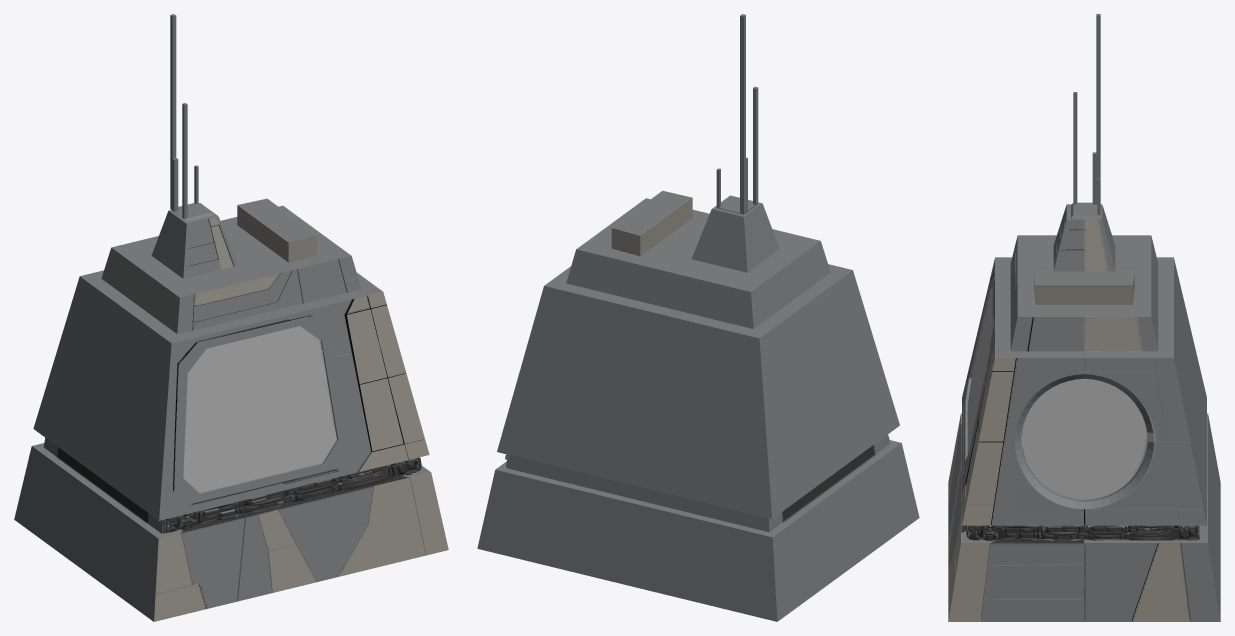
Rendered from Piramida.fbx.
3 views of the same model, side by side, from view 1: azimuth 30°, elevation 25°; view 2: azimuth 150°, elevation 25°; view 3: azimuth 270°, elevation 25° (orthographic). The views are drawn at different scales.
Visible parts, largest first — view 1: Center.001; view 2: Center.001; view 3: Center.001.
Boxes of the visible parts, <box> form: Center.001: <box>14,14,448,621</box>; Center.001: <box>477,14,919,621</box>; Center.001: <box>948,14,1220,621</box>.
Size of the model in its own units: 48721 by 83288 by 40000.
